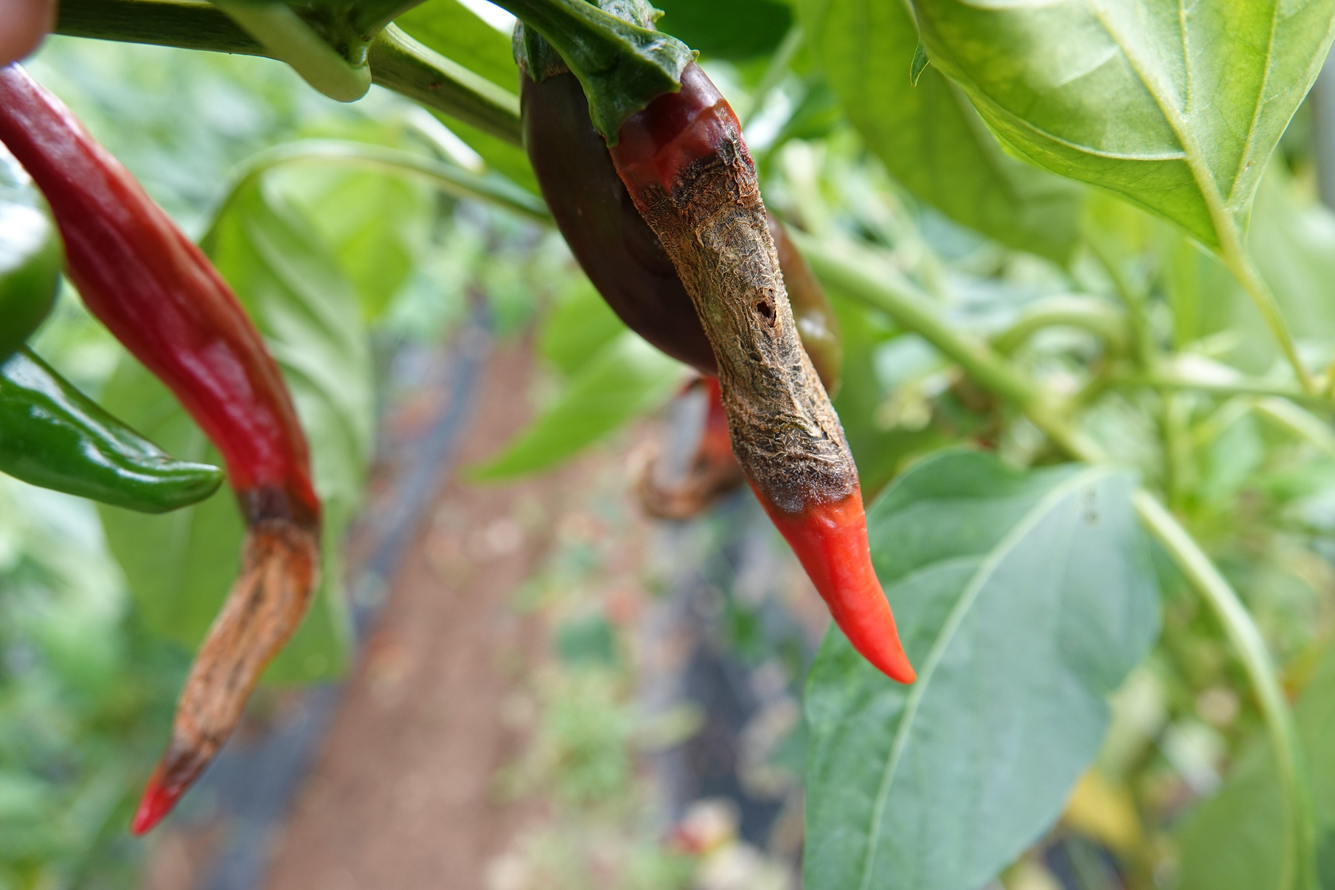Busuk Buah Antraknosa: (510, 2, 921, 688), (0, 62, 335, 843)
